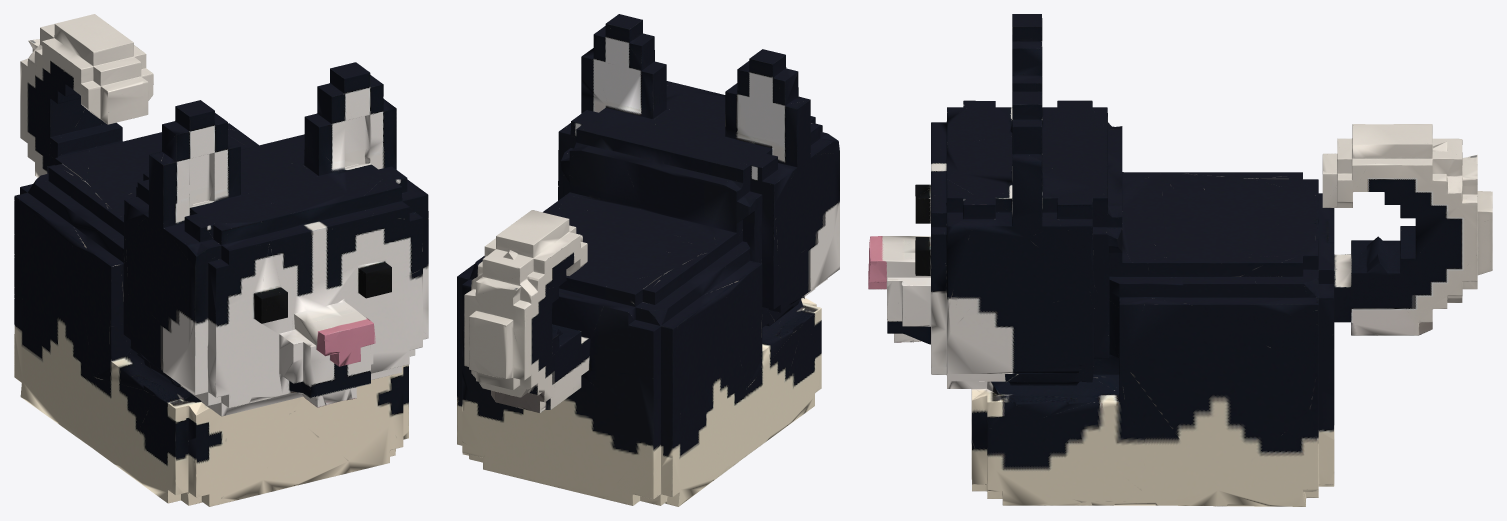
Rendered from Husky.fbx.
The picture shows the model from 3 angles, left to right: view 1: azimuth 30°, elevation 25°; view 2: azimuth 150°, elevation 25°; view 3: azimuth 270°, elevation 25°; orthographic projection. The views are drawn at different scales.
Visible parts, largest first — view 1: Mesh_0; view 2: Mesh_0; view 3: Mesh_0.
Boxes of the visible parts, <box> form: Mesh_0: <box>14,14,428,506</box>; Mesh_0: <box>457,14,839,506</box>; Mesh_0: <box>868,14,1492,506</box>.
Bounding box in the file's own units: 85.64 × 133 × 193.
Materials: 1 (1 with a texture image).
